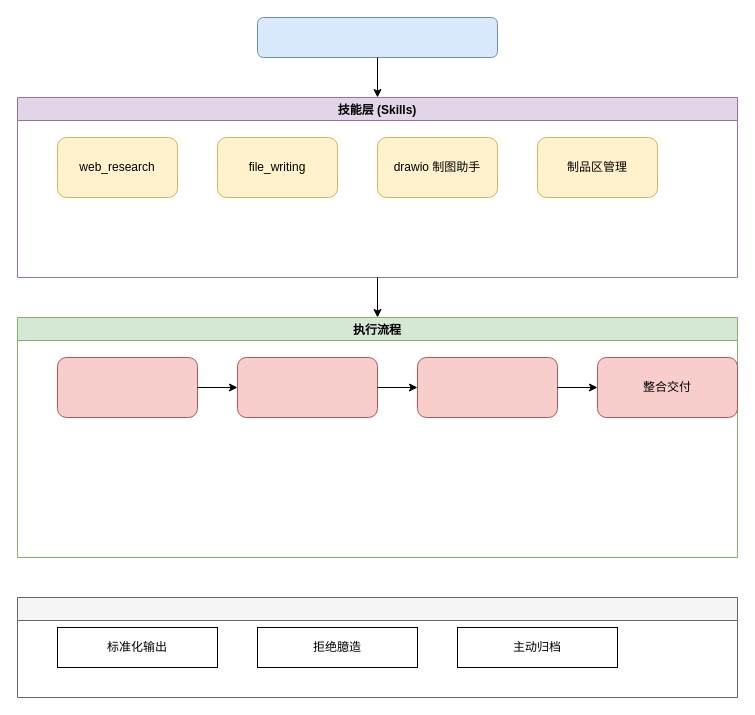
The diagram is 755 pixels wide and 715 high, and some of its shapes have lost their labels. Each missing label, with the box of its shape:
内容构建与验证: (236, 356, 378, 418)
制品区能力测试员 (You): (256, 16, 498, 58)
可视化呈现: (416, 356, 558, 418)
边界与原则: (16, 596, 738, 698)
需求分析与调研: (56, 356, 198, 418)
